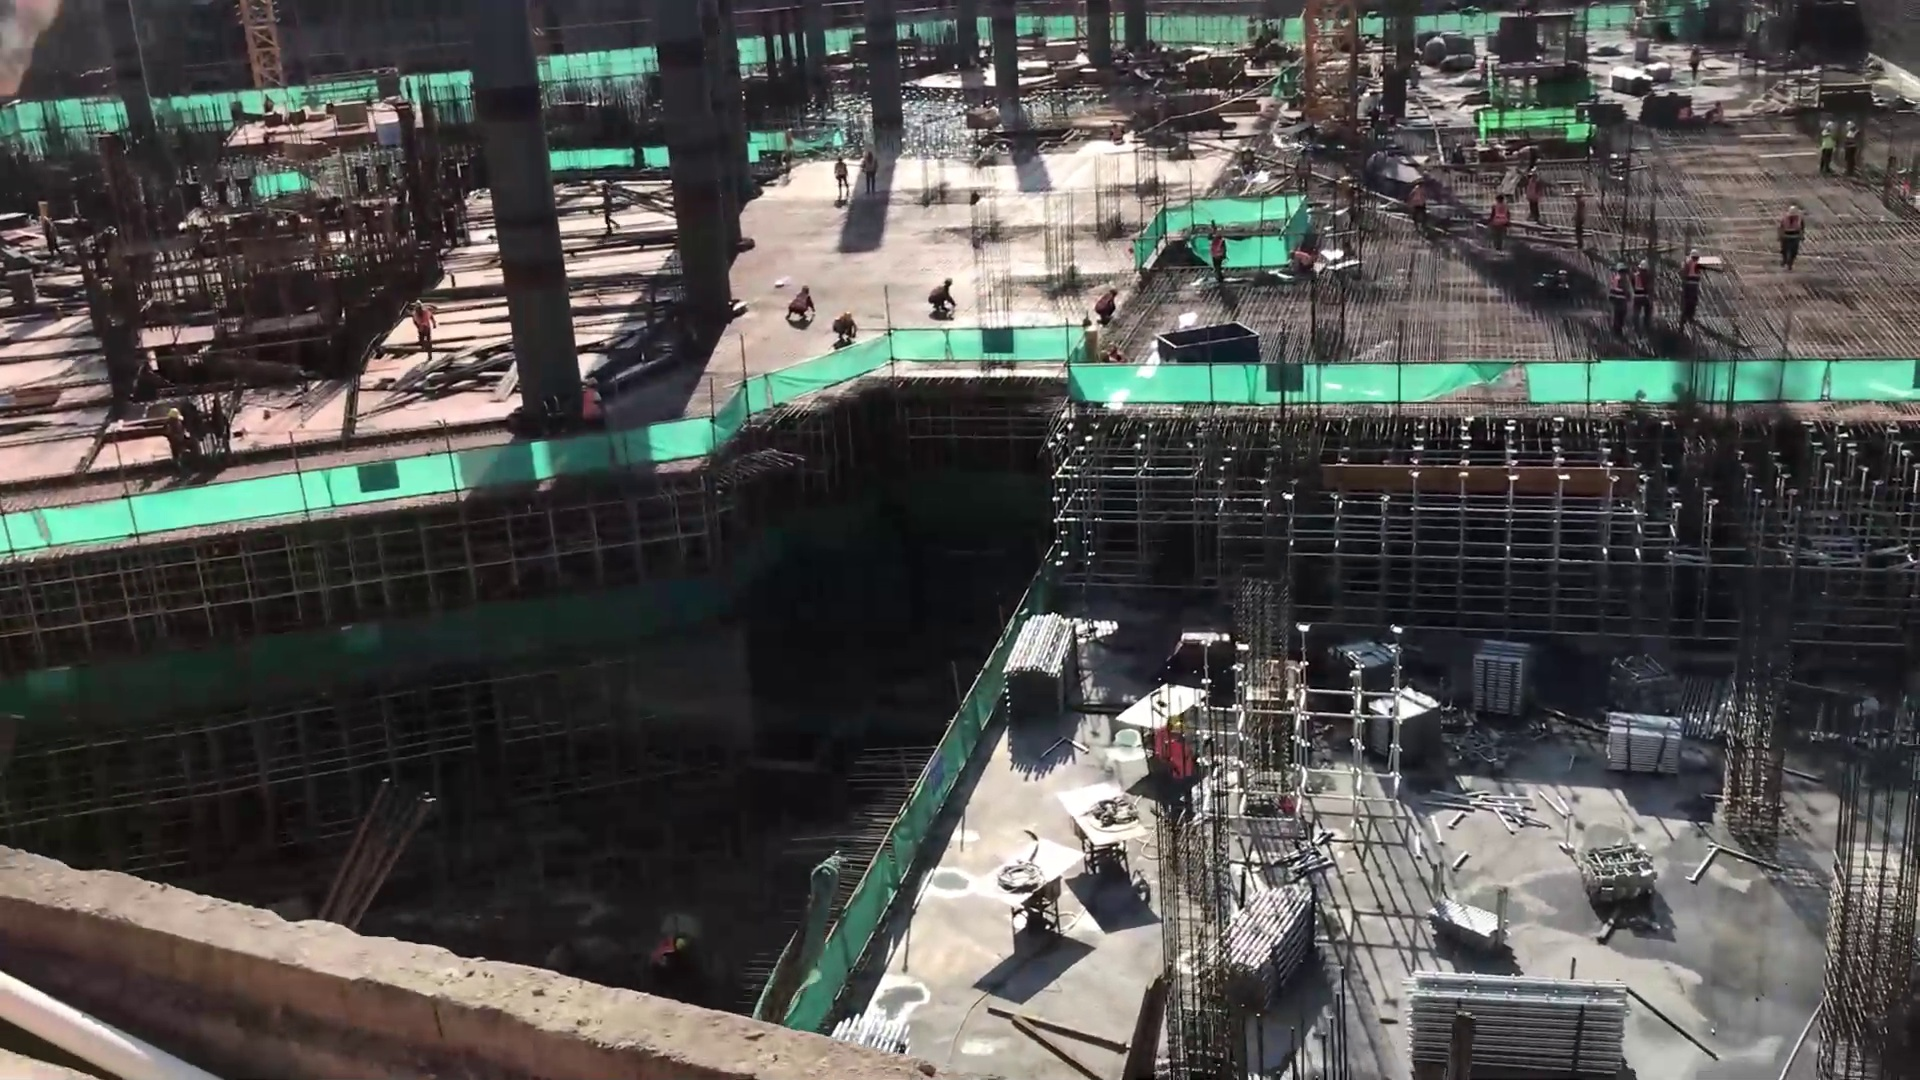person: (1148, 710, 1178, 802), (1172, 723, 1197, 818), (404, 295, 438, 360), (162, 406, 186, 482), (1779, 206, 1807, 268), (1612, 260, 1631, 337), (1568, 187, 1591, 252), (1207, 227, 1232, 288), (579, 376, 605, 433), (826, 155, 853, 203), (1407, 175, 1431, 231), (1680, 247, 1697, 323), (929, 277, 957, 321), (1488, 191, 1507, 254), (598, 179, 619, 237), (790, 279, 815, 329), (1291, 146, 1314, 197), (1094, 284, 1121, 326), (1635, 257, 1651, 325), (1283, 245, 1313, 280), (1525, 163, 1541, 224), (829, 310, 857, 343), (861, 148, 878, 196), (1821, 119, 1833, 174), (1685, 43, 1701, 81), (1705, 99, 1725, 125), (1477, 53, 1491, 89), (1843, 119, 1851, 176)
scaffold: (1410, 968, 1627, 1071), (1212, 888, 1317, 1002), (1003, 612, 1085, 716), (1469, 639, 1535, 716), (1606, 712, 1682, 777)
